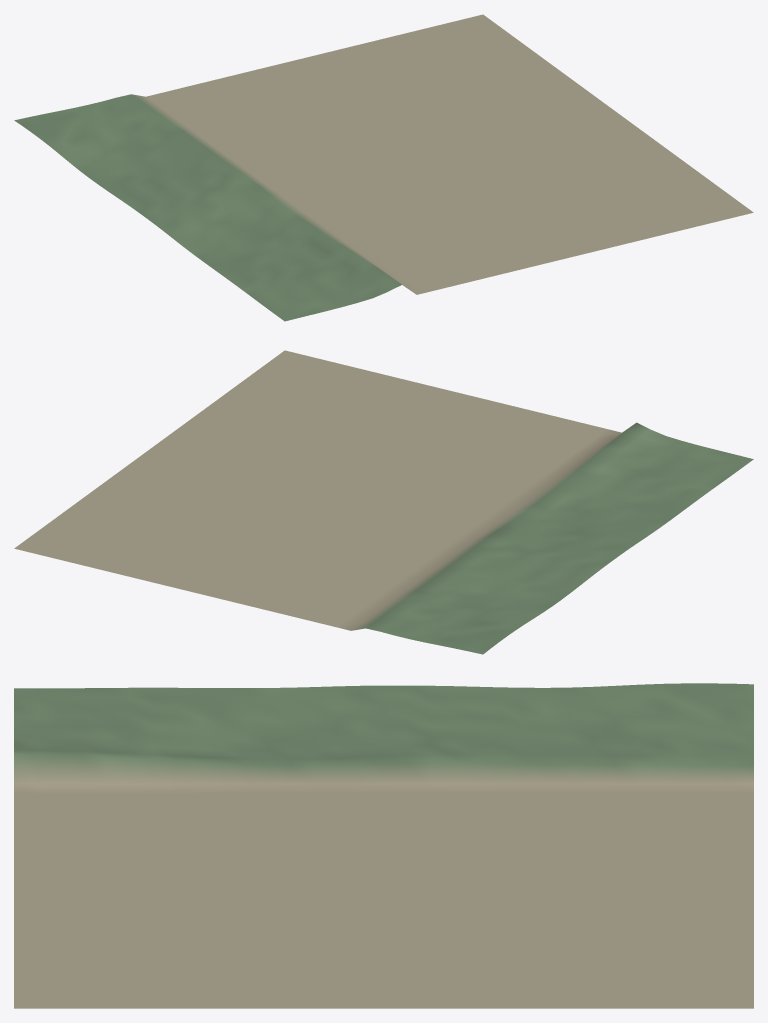
The picture shows the model from 3 angles, top to bottom: view 1: azimuth 30°, elevation 25°; view 2: azimuth 150°, elevation 25°; view 3: azimuth 270°, elevation 25°; orthographic projection. The views are drawn at different scales.
Parts seen in each view (by area): view 1: Terrain-col; view 2: Terrain-col; view 3: Terrain-col.
Boxes of the visible parts, x1,y1,x2,y2 form: Terrain-col: [14, 14, 753, 321]; Terrain-col: [14, 350, 753, 654]; Terrain-col: [14, 683, 753, 1008].
Size of the model in its own units: 256 by 7.14 by 256.
